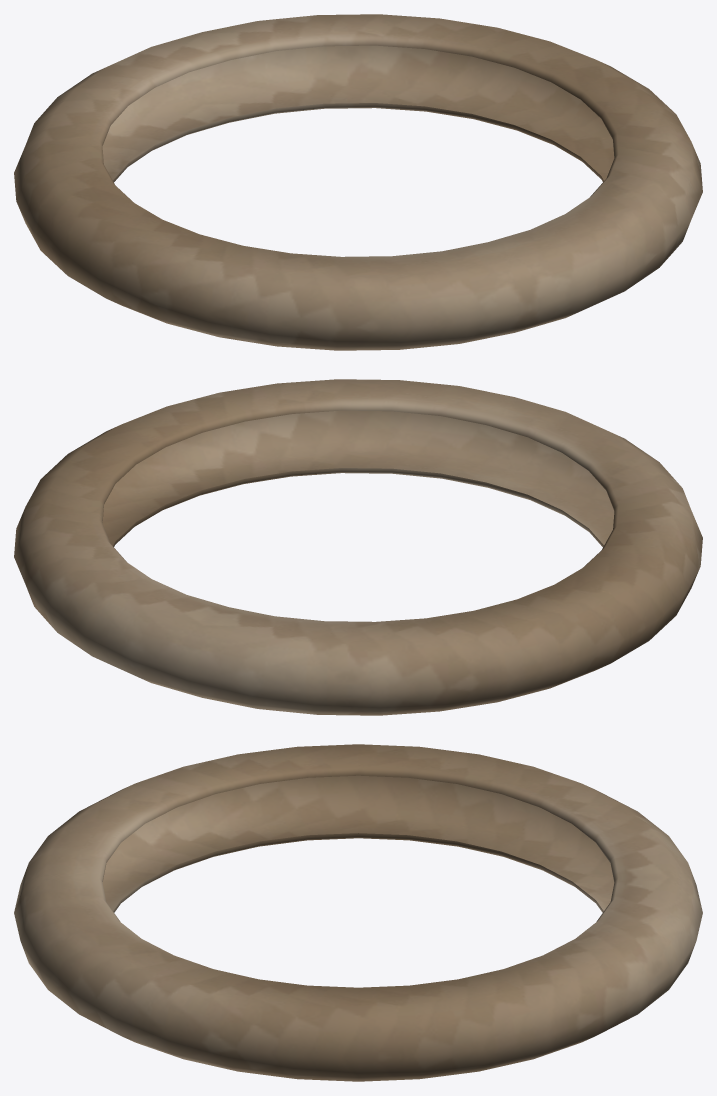
The model's file is pref_fx_NeutralScoreArea03_yellow_rim_lv3.fbx.
3 renders of one model, top to bottom at view 1: azimuth 30°, elevation 25°; view 2: azimuth 150°, elevation 25°; view 3: azimuth 270°, elevation 25°, orthographic.
Visible parts, largest first — view 1: sm_prop_platform06b_lv3; view 2: sm_prop_platform06b_lv3; view 3: sm_prop_platform06b_lv3.
Boxes of the visible parts, box(x1,y1,x2,y2) form: sm_prop_platform06b_lv3: box(14, 14, 702, 350); sm_prop_platform06b_lv3: box(14, 379, 702, 715); sm_prop_platform06b_lv3: box(14, 744, 702, 1081).
Size of the model in its own units: 2.52 by 0.2873 by 2.52.
